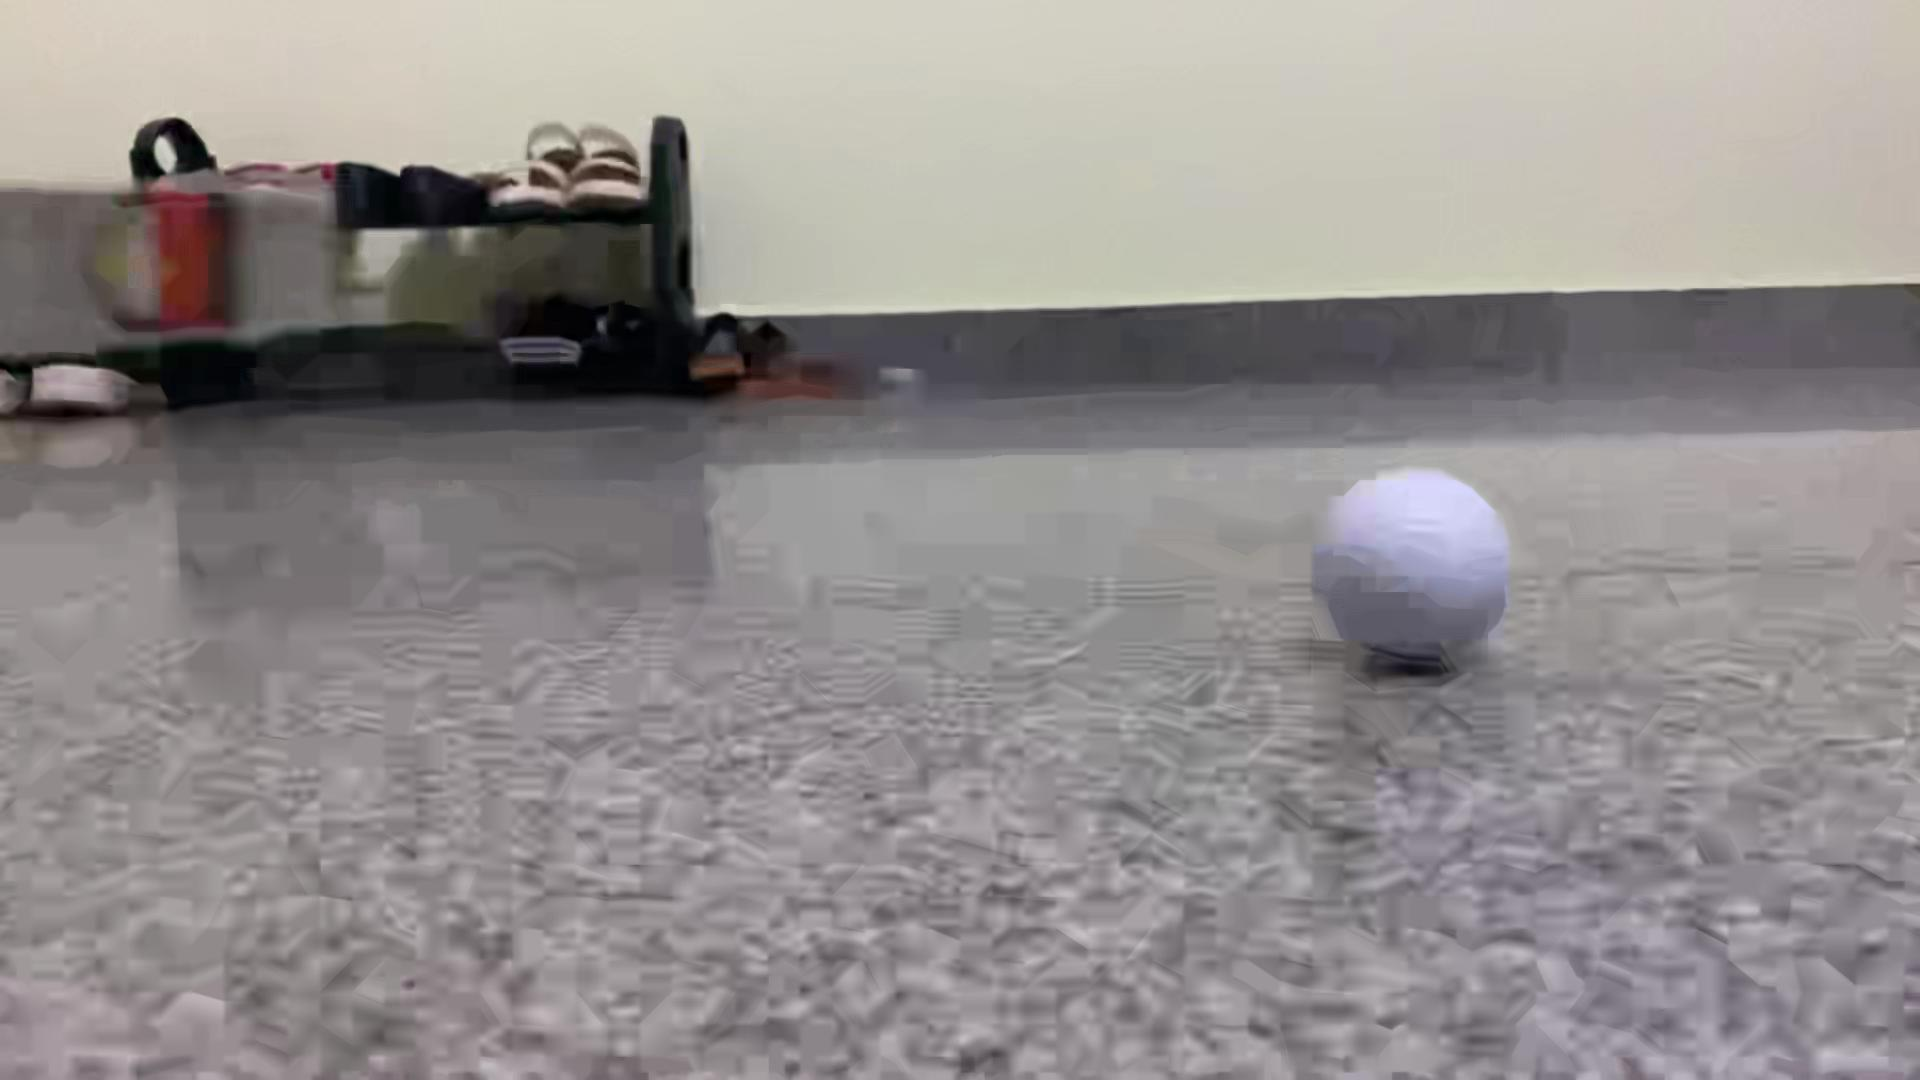golfball: (1312, 467, 1512, 660)
